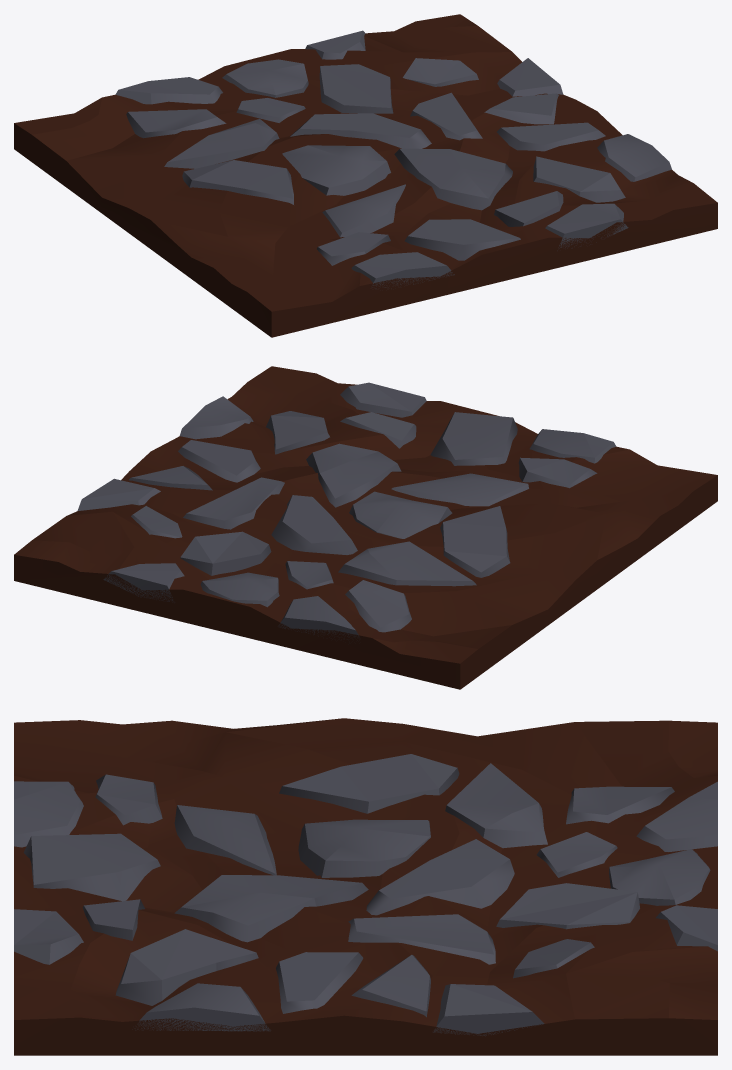
File: Ground_Stone_Path_Crossroads_R.fbx
The picture shows the model from 3 angles, top to bottom: view 1: azimuth 30°, elevation 25°; view 2: azimuth 150°, elevation 25°; view 3: azimuth 270°, elevation 25°; orthographic projection. The views are drawn at different scales.
Visible parts, largest first — view 1: Ground_Stone_Path_Crossroads_R; view 2: Ground_Stone_Path_Crossroads_R; view 3: Ground_Stone_Path_Crossroads_R.
Part boxes in pixels (x1,y1,x2,y2): Ground_Stone_Path_Crossroads_R: (14, 14, 717, 337); Ground_Stone_Path_Crossroads_R: (14, 366, 717, 689); Ground_Stone_Path_Crossroads_R: (14, 718, 717, 1055).
Bounding box in the file's own units: 147 × 13.54 × 147.
